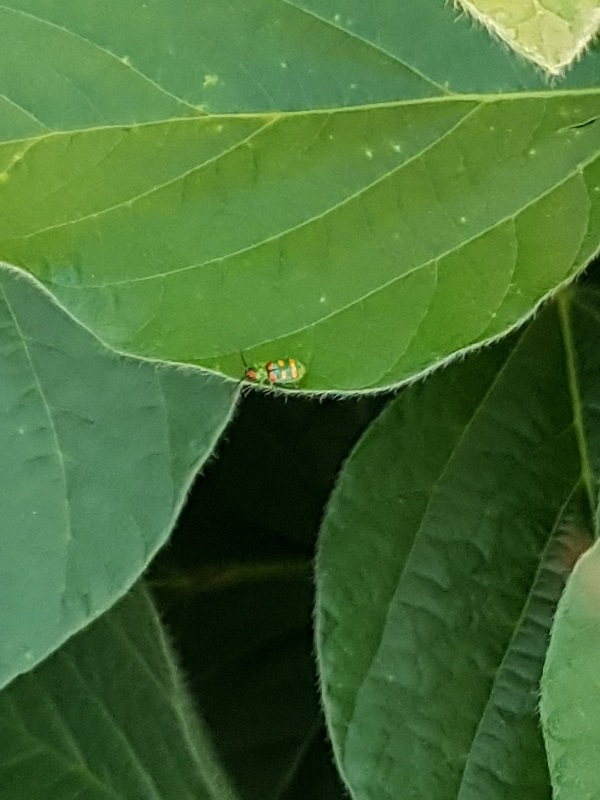Diabrotica_speciosa: (226, 337, 318, 418)
